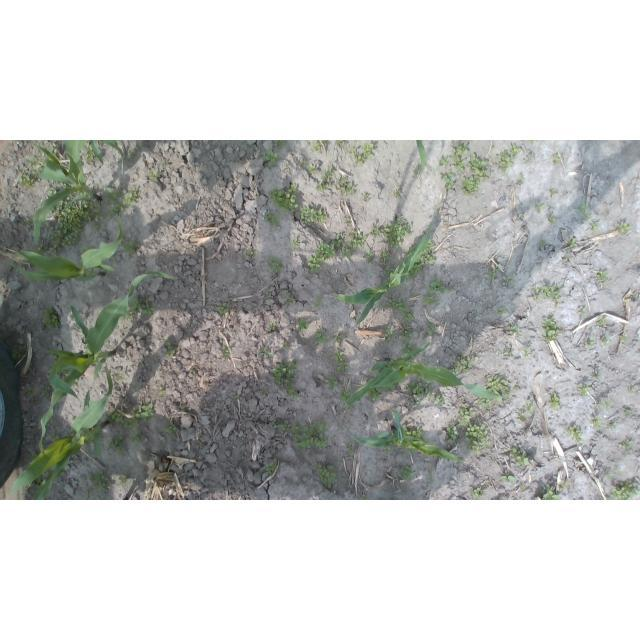Maize: (38, 269, 179, 459), (8, 363, 113, 500), (328, 207, 436, 325), (344, 341, 503, 405), (34, 140, 128, 248), (0, 215, 122, 281), (346, 408, 467, 467), (376, 141, 428, 174)
Weeds: (42, 190, 105, 247), (307, 232, 342, 276), (462, 154, 489, 197), (272, 359, 301, 399), (292, 420, 329, 450), (380, 217, 412, 250), (267, 183, 298, 214), (17, 156, 45, 189), (463, 424, 489, 455), (485, 374, 510, 403), (405, 381, 432, 407), (407, 254, 435, 279), (125, 403, 154, 427), (342, 231, 366, 259), (531, 285, 561, 307), (451, 141, 470, 174), (104, 187, 124, 216), (609, 481, 639, 500), (449, 354, 476, 375), (128, 295, 156, 315), (300, 206, 331, 224), (350, 143, 375, 165), (316, 463, 337, 489), (40, 305, 62, 329), (89, 471, 111, 494), (541, 317, 560, 343), (493, 150, 514, 173), (315, 166, 335, 190), (564, 424, 585, 446), (335, 176, 355, 196), (427, 278, 452, 294), (511, 447, 530, 468), (108, 435, 127, 455), (455, 405, 473, 425), (538, 484, 560, 500), (334, 350, 349, 373), (105, 409, 124, 426), (387, 297, 406, 314), (440, 170, 456, 190), (262, 150, 278, 169), (500, 471, 519, 486), (403, 426, 424, 439), (267, 256, 283, 273), (128, 428, 144, 445), (82, 144, 97, 162), (446, 424, 459, 444), (28, 473, 44, 489), (548, 392, 561, 411), (324, 376, 340, 391), (123, 190, 138, 206), (309, 140, 327, 153), (265, 458, 278, 476), (474, 396, 493, 408), (265, 212, 280, 227), (399, 466, 414, 481), (591, 416, 606, 431), (578, 381, 593, 396), (617, 221, 632, 236), (313, 328, 327, 344), (367, 387, 383, 401), (402, 343, 416, 359), (596, 270, 610, 286), (522, 400, 535, 417), (598, 398, 615, 411), (382, 326, 394, 344), (13, 345, 28, 359), (468, 485, 485, 497), (423, 294, 440, 306), (165, 422, 178, 437), (400, 327, 413, 342), (618, 438, 634, 450), (123, 241, 137, 254), (422, 239, 435, 253), (509, 143, 521, 158), (47, 353, 57, 371), (488, 265, 500, 280), (31, 245, 47, 256), (338, 388, 351, 401), (148, 170, 161, 183), (369, 223, 381, 237), (259, 347, 273, 359), (434, 391, 446, 405), (508, 326, 523, 337), (585, 335, 596, 350), (600, 332, 611, 347), (502, 276, 515, 288), (363, 249, 375, 262), (216, 302, 228, 315), (118, 471, 128, 486), (382, 264, 394, 276), (283, 292, 296, 303), (427, 323, 438, 336), (523, 155, 536, 166), (552, 152, 562, 166), (379, 250, 391, 261), (313, 295, 324, 307), (299, 319, 310, 331), (220, 346, 231, 358), (164, 346, 176, 357), (154, 386, 166, 397), (595, 315, 607, 326), (534, 202, 546, 213), (589, 221, 600, 233), (245, 248, 255, 261), (272, 140, 286, 149), (439, 157, 450, 168), (24, 217, 35, 228), (404, 311, 415, 322), (567, 237, 578, 248), (576, 307, 588, 317), (49, 245, 58, 258), (307, 164, 317, 175), (290, 238, 300, 249), (47, 146, 57, 157), (346, 443, 356, 454), (547, 213, 557, 224), (578, 204, 589, 214), (42, 386, 51, 398), (384, 382, 397, 390), (127, 149, 137, 159), (522, 347, 532, 357), (121, 311, 132, 320), (405, 246, 416, 255), (560, 483, 571, 492), (277, 424, 291, 431), (413, 166, 423, 175), (48, 188, 58, 197), (496, 307, 506, 316), (503, 347, 512, 357), (25, 386, 36, 394), (539, 240, 547, 251), (520, 483, 529, 492), (620, 333, 629, 342), (267, 322, 275, 332), (518, 411, 526, 421), (621, 407, 631, 415), (549, 187, 557, 197), (338, 421, 346, 430), (116, 372, 125, 380), (50, 433, 58, 442), (269, 420, 277, 429), (516, 211, 525, 219), (57, 181, 67, 188), (331, 337, 341, 344), (406, 449, 417, 455), (518, 173, 524, 184), (281, 342, 289, 350), (336, 141, 345, 148), (58, 371, 67, 378), (31, 451, 38, 460), (594, 371, 601, 380), (584, 214, 593, 221), (394, 190, 401, 198), (233, 394, 240, 402), (428, 475, 435, 483), (608, 423, 616, 430), (345, 218, 351, 227), (629, 388, 636, 395), (564, 254, 571, 261), (363, 192, 369, 200), (298, 160, 306, 166), (422, 436, 428, 444), (384, 447, 392, 453), (381, 302, 387, 310), (528, 140, 540, 144), (82, 496, 91, 501), (267, 293, 274, 299), (163, 337, 170, 343), (81, 245, 88, 251), (162, 159, 169, 165), (261, 390, 268, 396), (615, 467, 622, 473), (606, 473, 613, 479), (74, 378, 79, 386), (119, 327, 125, 333), (111, 256, 117, 262), (22, 493, 27, 500), (514, 386, 521, 391), (492, 141, 497, 148), (361, 495, 367, 500), (0, 156, 4, 160), (344, 334, 348, 338), (504, 498, 508, 500)
